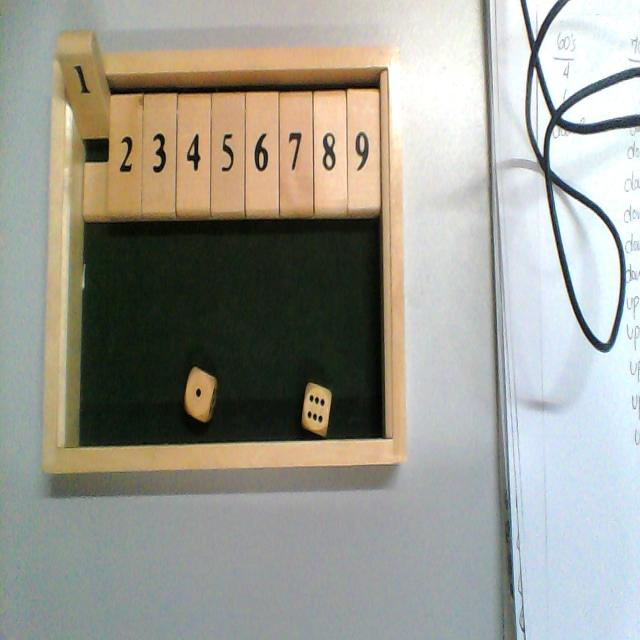1: (179, 358, 222, 431)
6: (299, 372, 333, 442)
C2: (107, 55, 142, 221)
C3: (142, 52, 178, 219)
C4: (175, 52, 211, 219)
C5: (209, 54, 245, 220)
C6: (244, 50, 279, 217)
C7: (278, 51, 313, 218)
C8: (313, 49, 348, 216)
C9: (348, 49, 383, 216)
O1: (59, 34, 109, 221)
